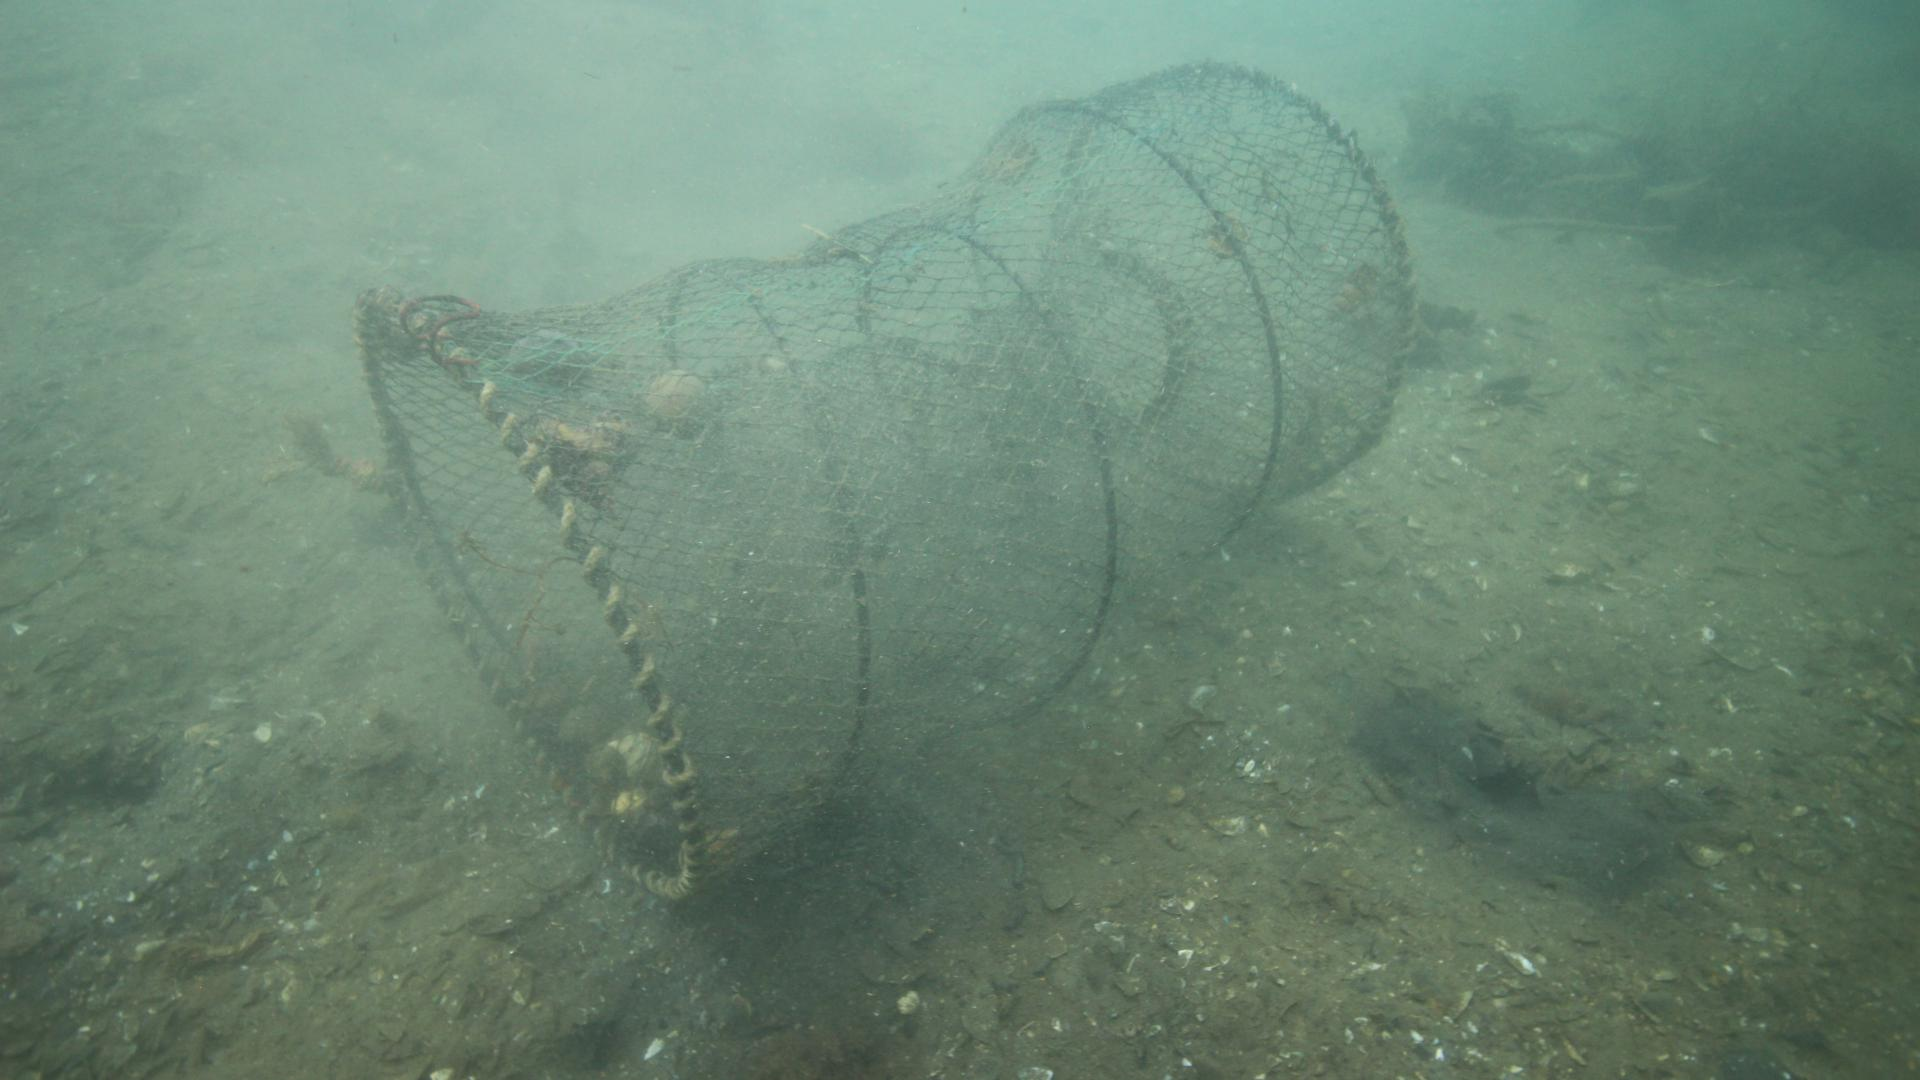spring fish trap: (353, 55, 1420, 903)
